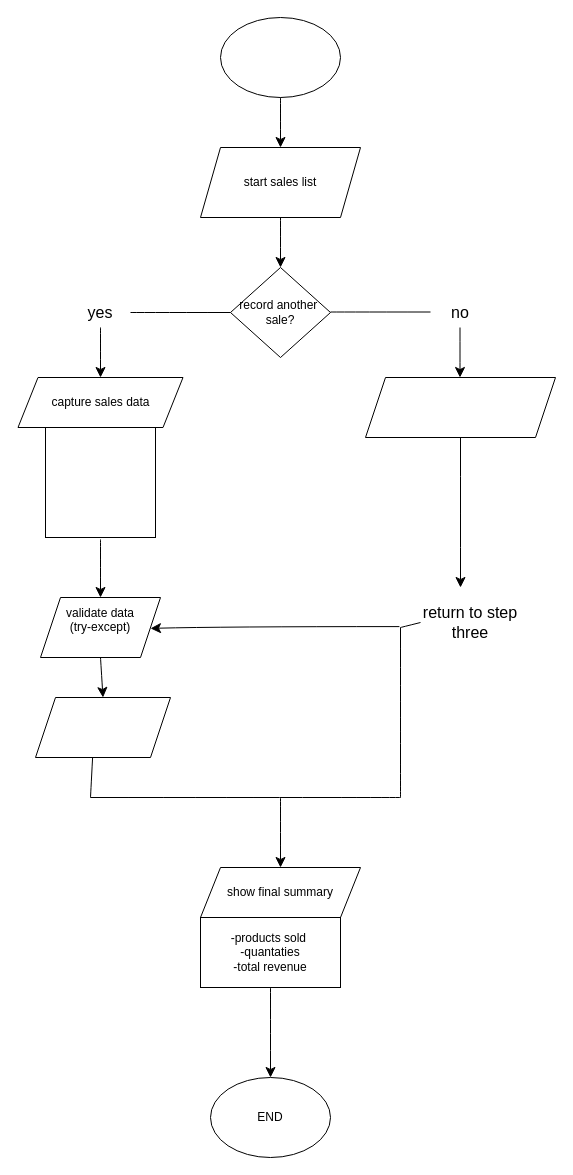
Some shapes in this 573 by 1175 pixel diagram are drawn without their labels. The centre of each missing label's shape, as x and y in pixels:
"-process sales -calculate totals by products -calculate total collected" belongs at (x=460, y=407).
"-product -unit price -quantity sold" belongs at (x=100, y=482).
"home" belongs at (x=280, y=57).
"saves sales in the list" belongs at (x=102, y=727).
